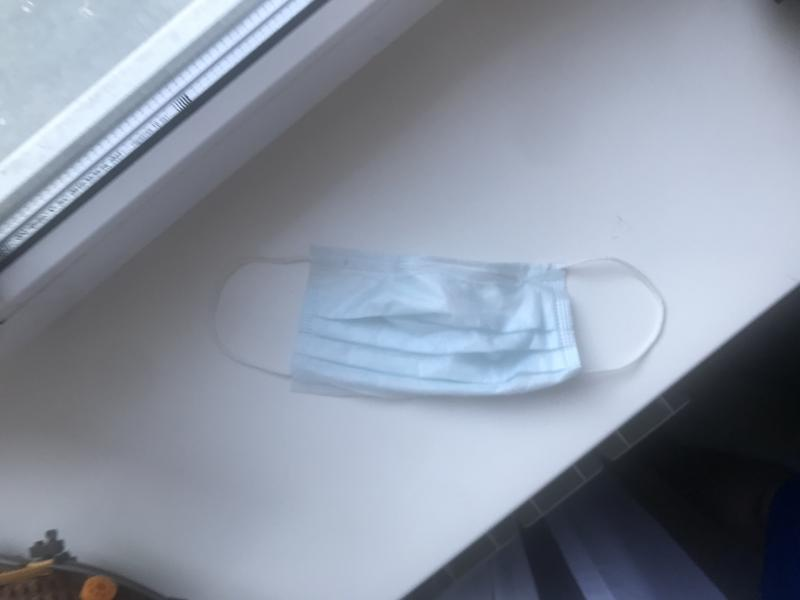medical_mask: (212, 245, 665, 395)
